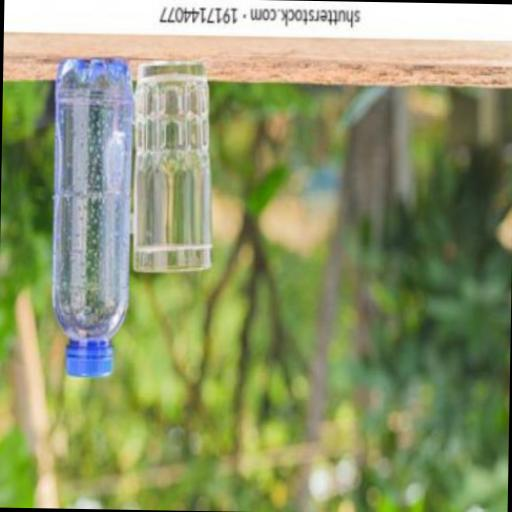Coca: (42, 48, 144, 386)
